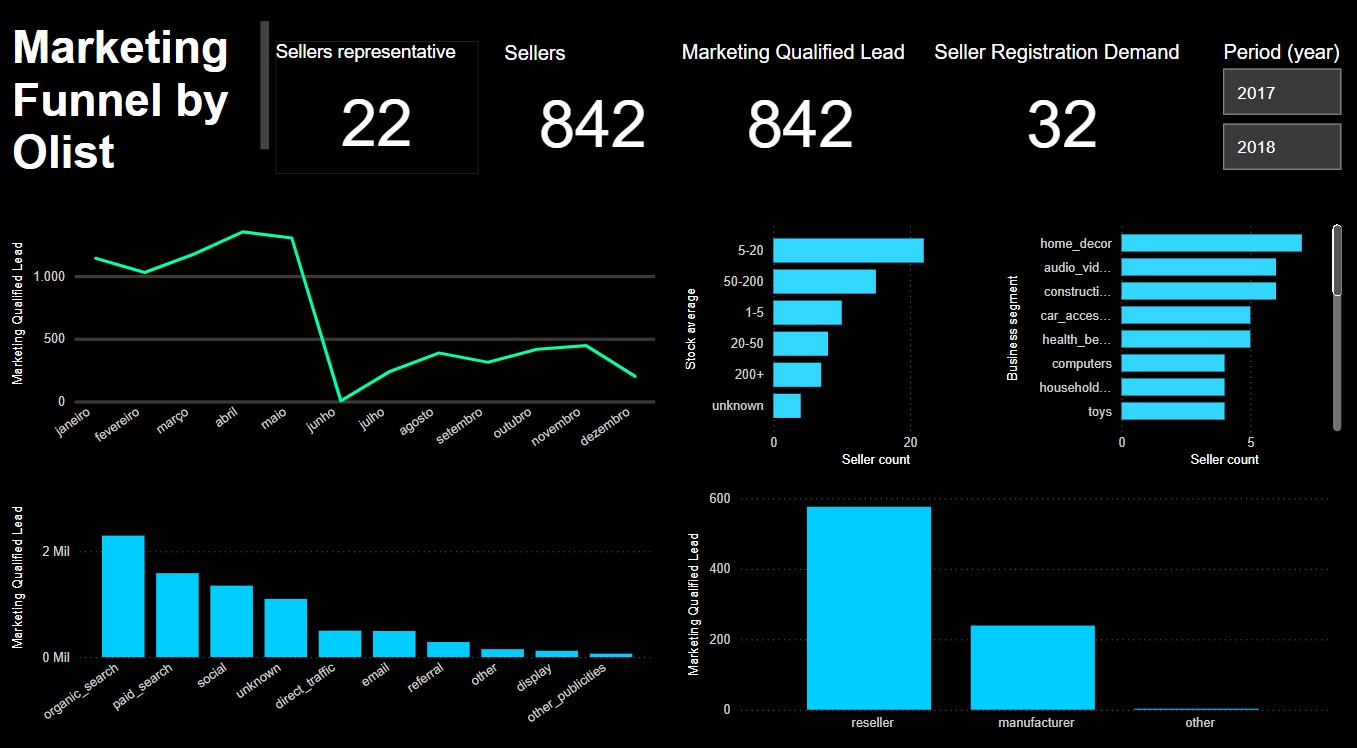

The dashboard page shown, as its layout file describes it:
{"tool":"powerbi","page":{"name":"Página 1","canvas":[1280,720],"ordinal":0},"visuals":[{"type":"cardVisual","title":"Sellers","fields":{"Data":["Count(olist_closed_deals_dataset.seller_id)"]},"box":[475.7,52.3,165.3,125.3],"z":2000},{"type":"advancedSlicerVisual","title":"Period (year)","fields":{"Values":["olist_marketing_qualified_leads_dataset.first_contact_date.Variation.Hierarquia de datas.Ano"]},"box":[1139.7,50.9,120,125.3],"z":4000},{"type":"lineChart","fields":{"Y":["CountNonNull(olist_marketing_qualified_leads_dataset.mql_id)"],"Category":["olist_marketing_qualified_leads_dataset.first_contact_date.Variation.Hierarquia de datas.Ano","olist_marketing_qualified_leads_dataset.first_contact_date.Variation.Hierarquia de datas.Trimestre","olist_marketing_qualified_leads_dataset.first_contact_date.Variation.Hierarquia de datas.Mês","olist_marketing_qualified_leads_dataset.first_contact_date.Variation.Hierarquia de datas.Dia"]},"box":[13.3,209.3,608,241.3],"z":5000},{"type":"columnChart","fields":{"Category":["olist_marketing_qualified_leads_dataset.origin"],"Y":["CountNonNull(olist_marketing_qualified_leads_dataset.mql_id)"]},"box":[13.3,462.7,608,238.7],"z":6000},{"type":"clusteredBarChart","fields":{"Category":["olist_closed_deals_dataset.average_stock"],"Y":["CountNonNull(olist_closed_deals_dataset.seller_id)"]},"box":[640,210.7,289.3,241.3],"z":7000},{"type":"clusteredBarChart","fields":{"Y":["CountNonNull(olist_closed_deals_dataset.seller_id)"],"Category":["olist_closed_deals_dataset.business_segment"]},"box":[938.7,209.3,321.3,242.7],"z":8000},{"type":"textbox","box":[13.3,28,249.3,149.3],"z":9000},{"type":"cardVisual","title":"Sellers representative","fields":{"Data":["Count(olist_closed_deals_dataset.sr_id)"]},"box":[262.7,50.7,188,125.3],"z":9001},{"type":"cardVisual","title":"Marketing Qualified Lead","fields":{"Data":["Count(olist_closed_deals_dataset.mql_id)"]},"box":[641.1,50.9,221.3,126.7],"z":9002},{"type":"cardVisual","title":"Seller Registration Demand","fields":{"Data":["Count(olist_closed_deals_dataset.sdr_id)"]},"box":[875.7,50.9,238.7,126.7],"z":9003},{"type":"columnChart","fields":{"Y":["CountNonNull(olist_marketing_qualified_leads_dataset.mql_id)"],"Category":["olist_closed_deals_dataset.business_type"]},"box":[641.3,462.7,608,238.7],"z":9004}]}

Visuals, with their boxes in screenshot pixels (x1, y1, x2, y2), scaled from the page's 1280x720 canvas onto the 1357x748 screenshot:
"Sellers" cardVisual: x1=504, y1=54, x2=680, y2=185
"Period (year)" advancedSlicerVisual: x1=1208, y1=53, x2=1335, y2=183
lineChart - CountNonNull(olist_marketing_qualified_leads_dataset.mql_id) x olist_marketing_qualified_leads_dataset.first_contact_date.Variation.Hierarquia de datas.Ano: x1=14, y1=217, x2=659, y2=468
columnChart - olist_marketing_qualified_leads_dataset.origin x CountNonNull(olist_marketing_qualified_leads_dataset.mql_id): x1=14, y1=481, x2=659, y2=729
clusteredBarChart - olist_closed_deals_dataset.average_stock x CountNonNull(olist_closed_deals_dataset.seller_id): x1=678, y1=219, x2=985, y2=470
clusteredBarChart - CountNonNull(olist_closed_deals_dataset.seller_id) x olist_closed_deals_dataset.business_segment: x1=995, y1=217, x2=1336, y2=470
textbox: x1=14, y1=29, x2=278, y2=184
"Sellers representative" cardVisual: x1=279, y1=53, x2=478, y2=183
"Marketing Qualified Lead" cardVisual: x1=680, y1=53, x2=914, y2=185
"Seller Registration Demand" cardVisual: x1=928, y1=53, x2=1181, y2=185
columnChart - CountNonNull(olist_marketing_qualified_leads_dataset.mql_id) x olist_closed_deals_dataset.business_type: x1=680, y1=481, x2=1324, y2=729
